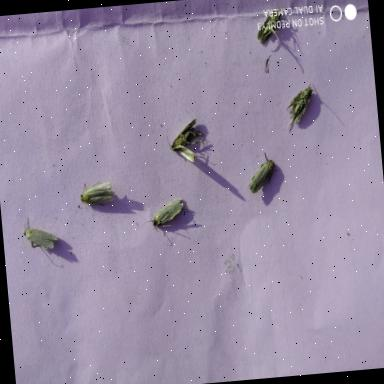pbw: (164, 116, 213, 168), (280, 80, 326, 134), (136, 195, 192, 236), (253, 0, 291, 52), (244, 150, 284, 198), (75, 177, 119, 214), (18, 219, 60, 253)
